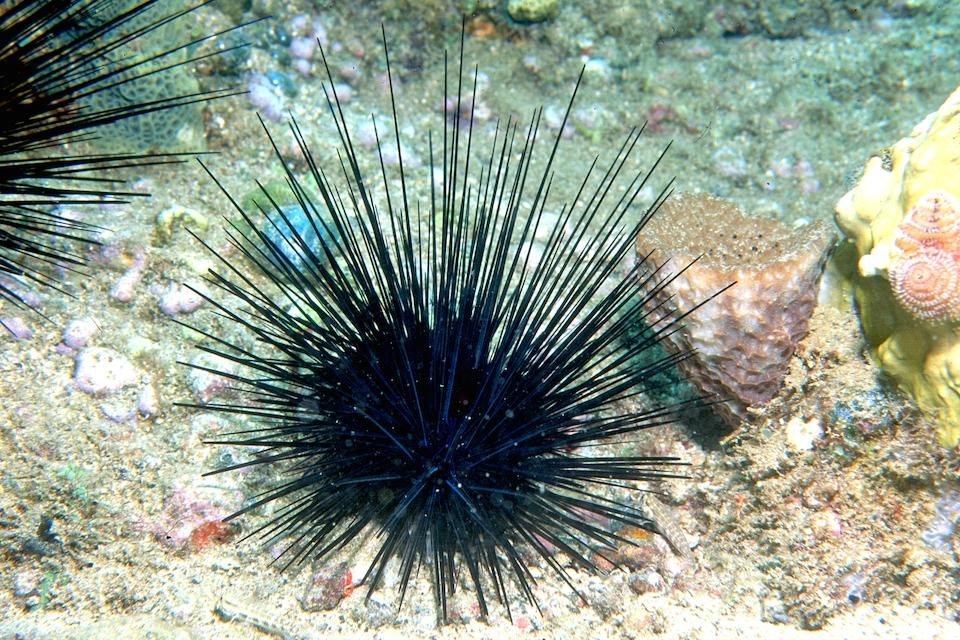urchin: (173, 23, 724, 621), (5, 3, 250, 323)
